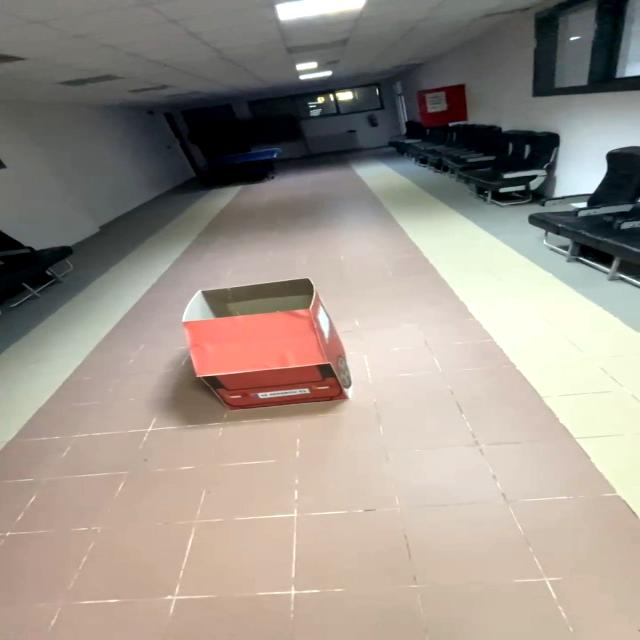red_car: (146, 255, 384, 443)
